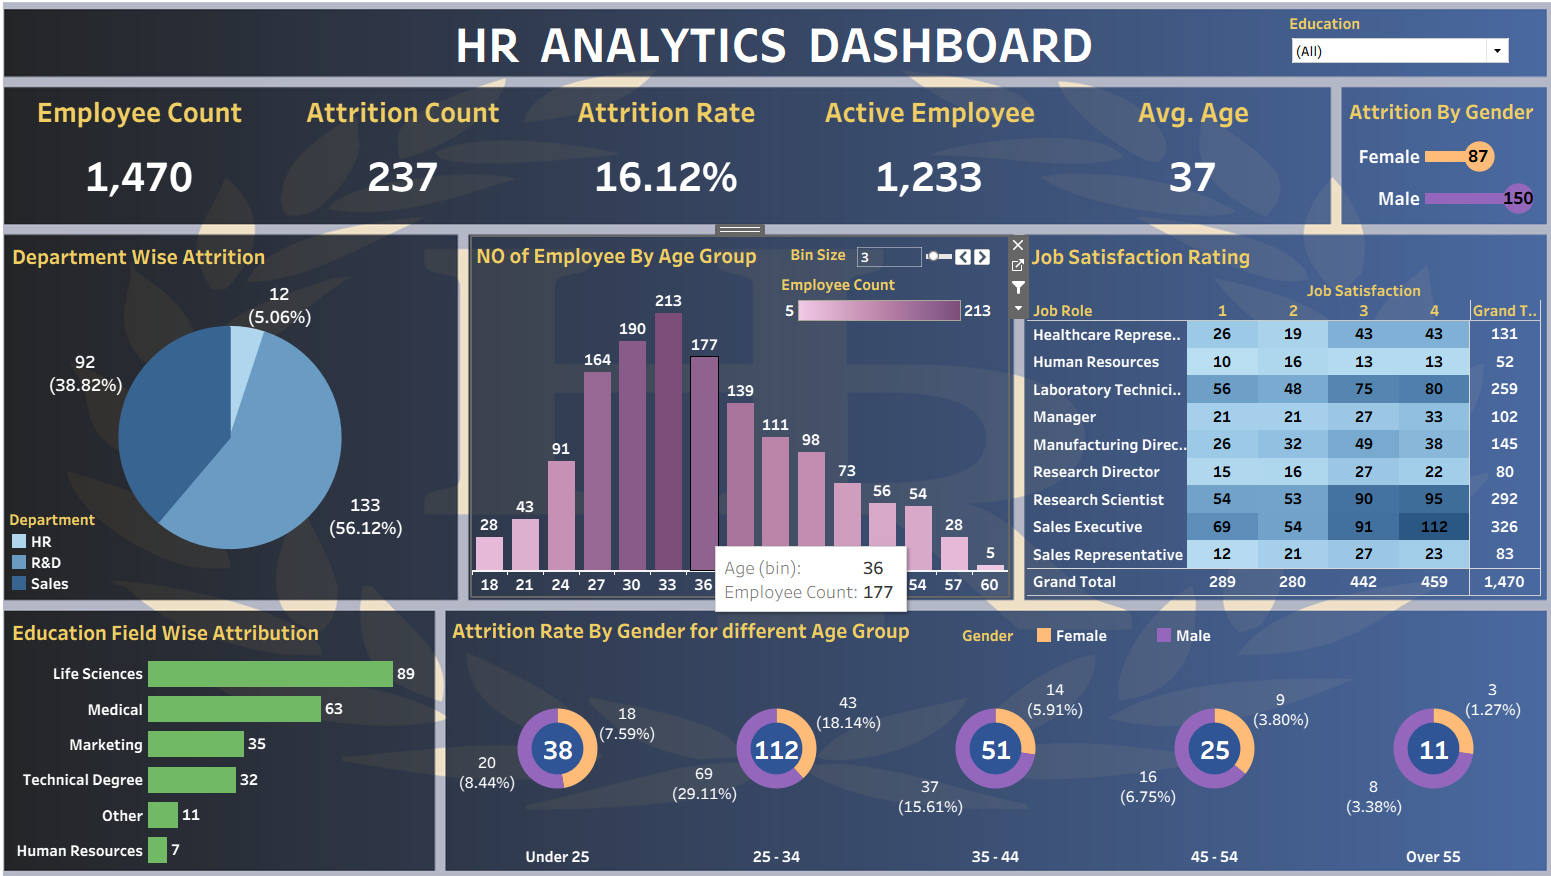

The page's visual inventory and layout, read from the dashboard file:
{"tool":"tableau","page":{"name":"HR  ANALYTICS  DASHBOARD","canvas":[1580,900],"ordinal":0},"visuals":[{"type":"image","param":"Image/HR background image.png","box":[8,8,1564,884]},{"type":"text","box":[29,22,1520,61]},{"type":"filter","title":"Department Wise Attrition","param":"[federated.07gylpv07cwnpr1goe0ez0zzh3a3].[none:Education:nk]","box":[1304,23,223,60]},{"type":"worksheet","title":"KPI","mark":"Automatic","box":[23,100,1317,131]},{"type":"worksheet","title":"Attrition By Gender","mark":"Automatic","rows":["Gender"],"cols":["Calculation_0988488256069632","Calculation_0988488256069632"],"box":[1360,103,194,126]},{"type":"worksheet","title":"NO of Employee By Age Group","mark":"Automatic","rows":["Employee Count"],"cols":["Age (bin)"],"box":[487,247,536,359]},{"type":"worksheet","title":"Department Wise Attrition","mark":"Pie","box":[23,248,444,357]},{"type":"worksheet","title":"Job Satisfaction Rating","mark":"Square","rows":["Job Role"],"cols":["Job Satisfaction"],"box":[1042,248,515,358]},{"type":"parameter","param":"[Parameters].[Parameter 0988488274382851]","box":[797,254,211,24]},{"type":"legend","title":"NO of Employee By Age Group","param":"[federated.07gylpv07cwnpr1goe0ez0zzh3a3].[sum:Employee Count:qk]","box":[796,284,215,55]},{"type":"legend","title":"Department Wise Attrition","param":"[federated.07gylpv07cwnpr1goe0ez0zzh3a3].[none:Department:nk]","box":[24,519,99,85]},{"type":"worksheet","title":"Attrition Rate By Gender for different Age Group","mark":"Pie","rows":["Calculation_0988488289665029","Calculation_0988488289665029"],"cols":["CF_age band"],"box":[463,622,1095,256]},{"type":"worksheet","title":"Education Field Wise Attribution","mark":"Automatic","rows":["Education Field"],"cols":["Calculation_0988488256069632"],"box":[23,624,423,254]},{"type":"legend","title":"Attrition Rate By Gender for different Age Group","param":"[federated.07gylpv07cwnpr1goe0ez0zzh3a3].[none:Gender:nk]","box":[977,635,325,21]}]}

Visuals, with their boxes in screenshot pixels (x1, y1, x2, y2), scaled from the page's 1580x900 canvas onto the 1551x876 screenshot:
image: l=8, t=8, r=1543, b=868
text: l=28, t=21, r=1521, b=81
"Department Wise Attrition" filter: l=1280, t=22, r=1499, b=81
"KPI" worksheet: l=23, t=97, r=1315, b=225
"Attrition By Gender" worksheet: l=1335, t=100, r=1525, b=223
"NO of Employee By Age Group" worksheet: l=478, t=240, r=1004, b=590
"Department Wise Attrition" worksheet (Pie marks): l=23, t=241, r=458, b=589
"Job Satisfaction Rating" worksheet (Square marks): l=1023, t=241, r=1528, b=590
parameter: l=782, t=247, r=989, b=271
"NO of Employee By Age Group" legend: l=781, t=276, r=992, b=330
"Department Wise Attrition" legend: l=24, t=505, r=121, b=588
"Attrition Rate By Gender for different Age Group" worksheet (Pie marks): l=455, t=605, r=1529, b=855
"Education Field Wise Attribution" worksheet: l=23, t=607, r=438, b=855
"Attrition Rate By Gender for different Age Group" legend: l=959, t=618, r=1278, b=639
